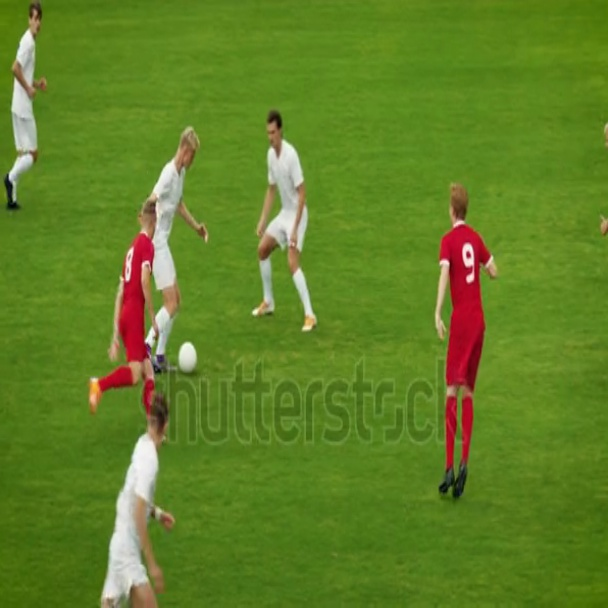ball: (173, 337, 203, 383)
